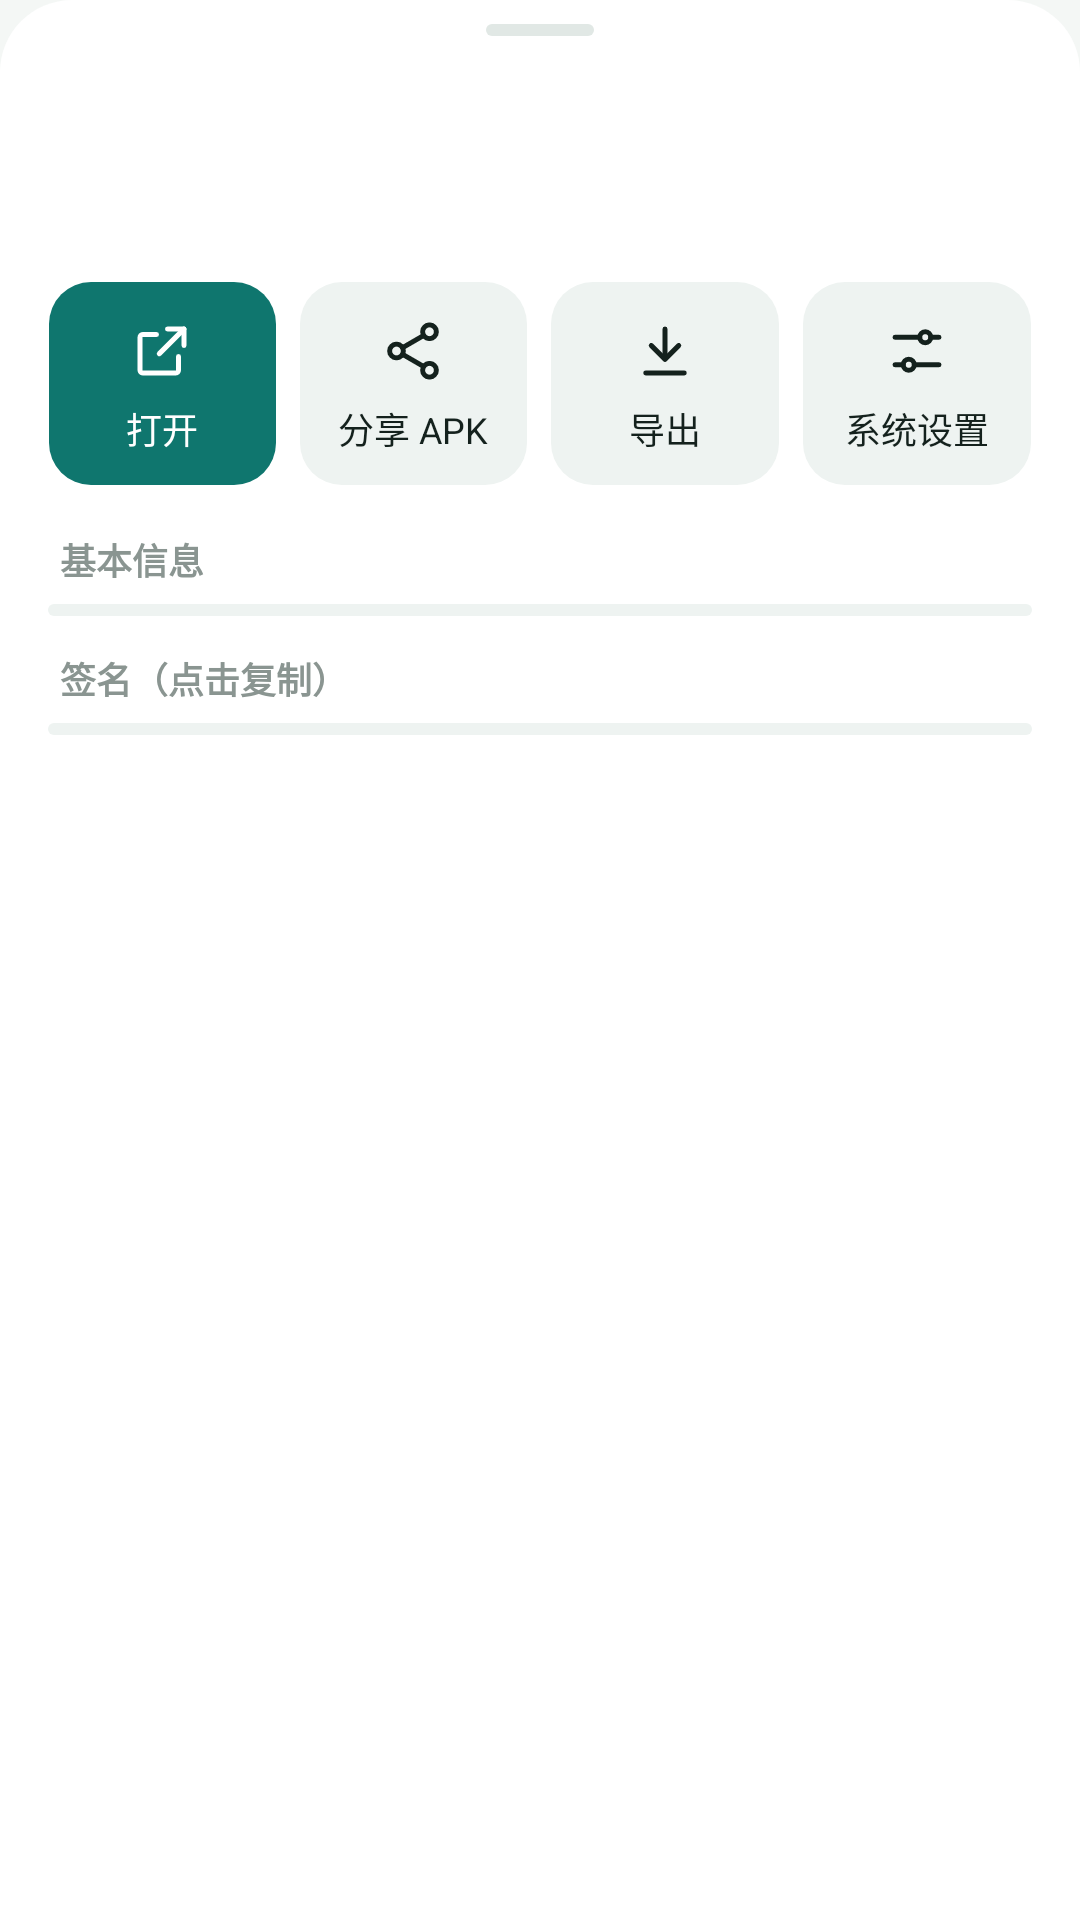

Where to tap for icons on this 1080*1920 app screen, as (x,y):
download: (665,351)
tune: (917,351)
